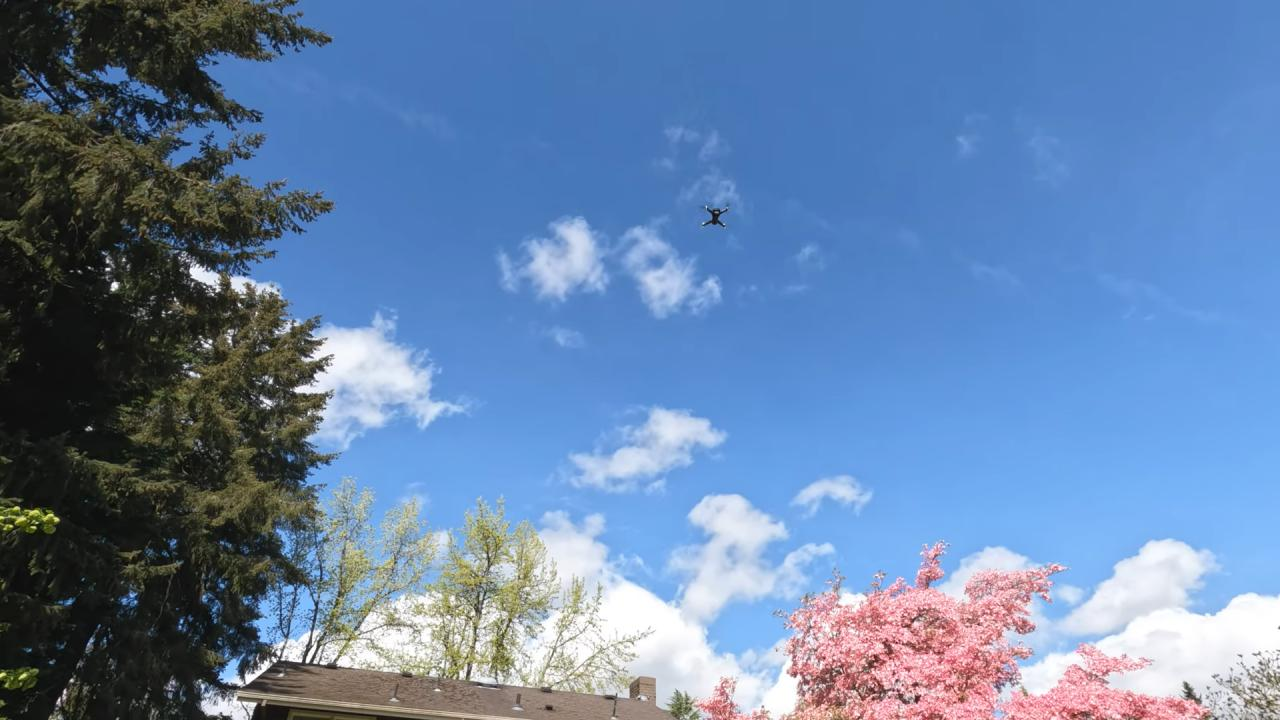Drone: (691, 196, 739, 239)
